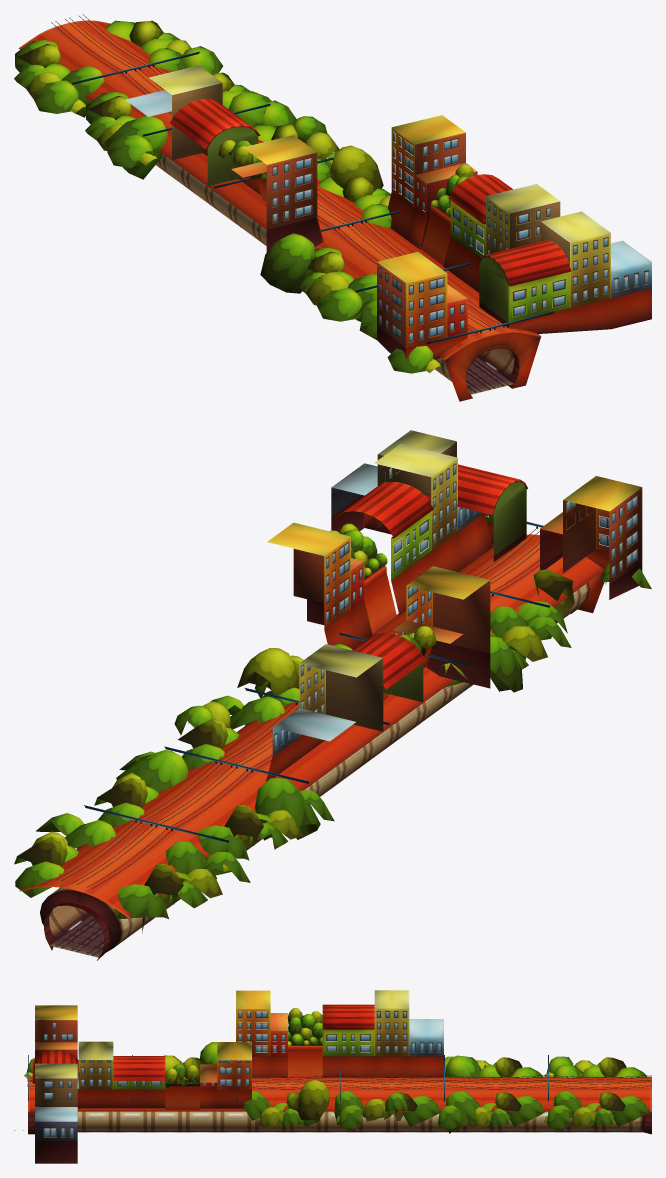
The model's file is tunnel.glb.
The picture shows the model from 3 angles, top to bottom: view 1: azimuth 30°, elevation 25°; view 2: azimuth 150°, elevation 25°; view 3: azimuth 270°, elevation 25°; orthographic projection. The views are drawn at different scales.
Visible parts, largest first — view 1: Object_7, Object_8; view 2: Object_7, Object_8; view 3: Object_7, Object_8.
Part boxes in pixels (<box>): Object_7: <box>14,14,651,401</box>; Object_8: <box>218,132,566,342</box>; Object_7: <box>14,430,651,960</box>; Object_8: <box>326,455,637,655</box>; Object_7: <box>24,990,651,1163</box>; Object_8: <box>43,1008,371,1137</box>.
Size of the model in its own units: 384 by 205 by 1104.
1 material, 1 textured.
